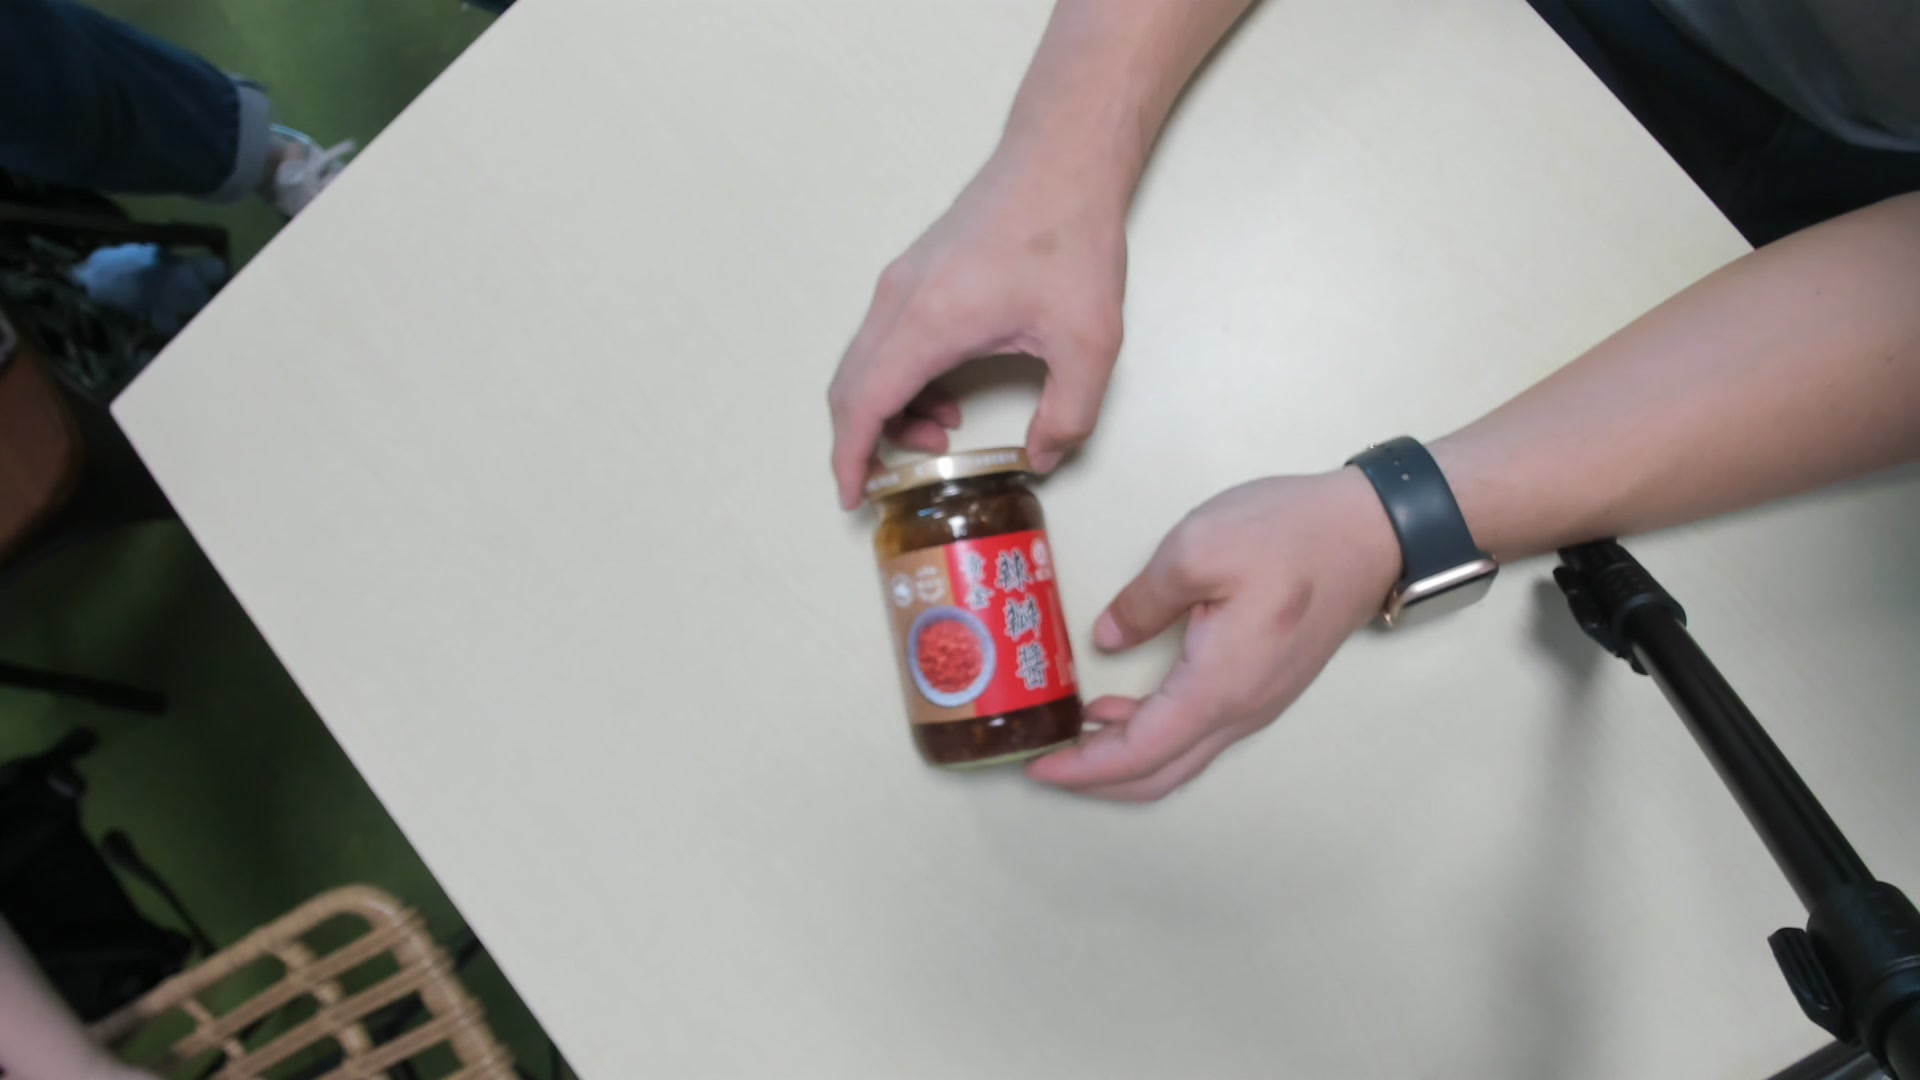OtherSauceDressing_300-399g_NonHalal_NonHealthy: (866, 443, 1087, 781)
